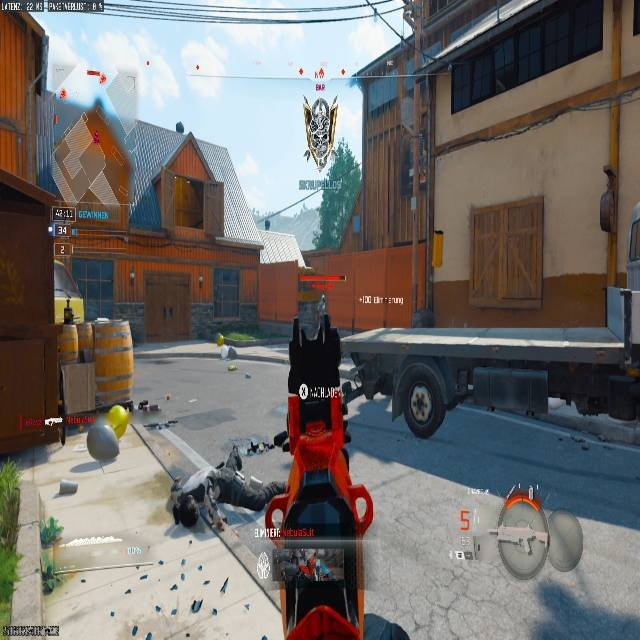head: (172, 493, 199, 528)
